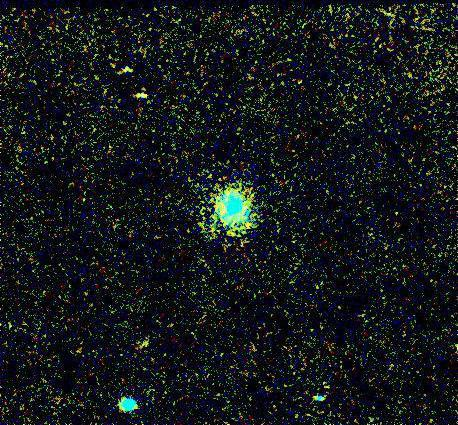star: (237, 214, 267, 244)
